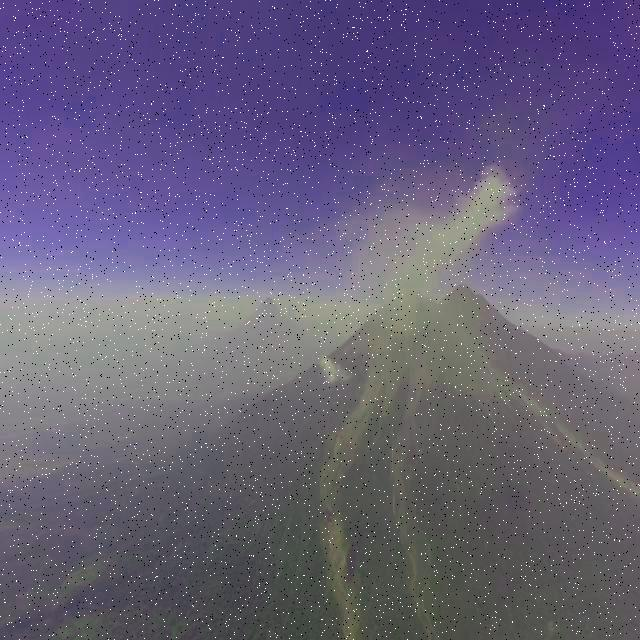Plume: (343, 150, 523, 304)
